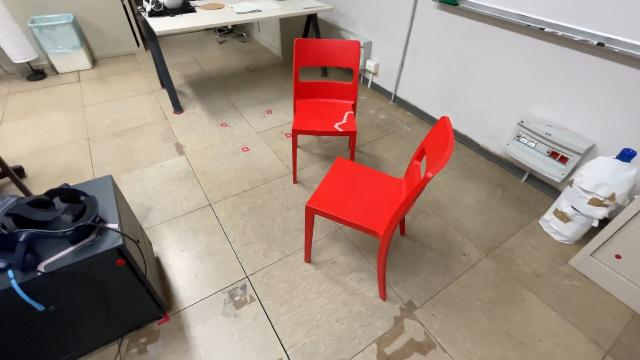Chair: (300, 114, 458, 308), (288, 33, 367, 189)
Lamp: (0, 0, 50, 86)
